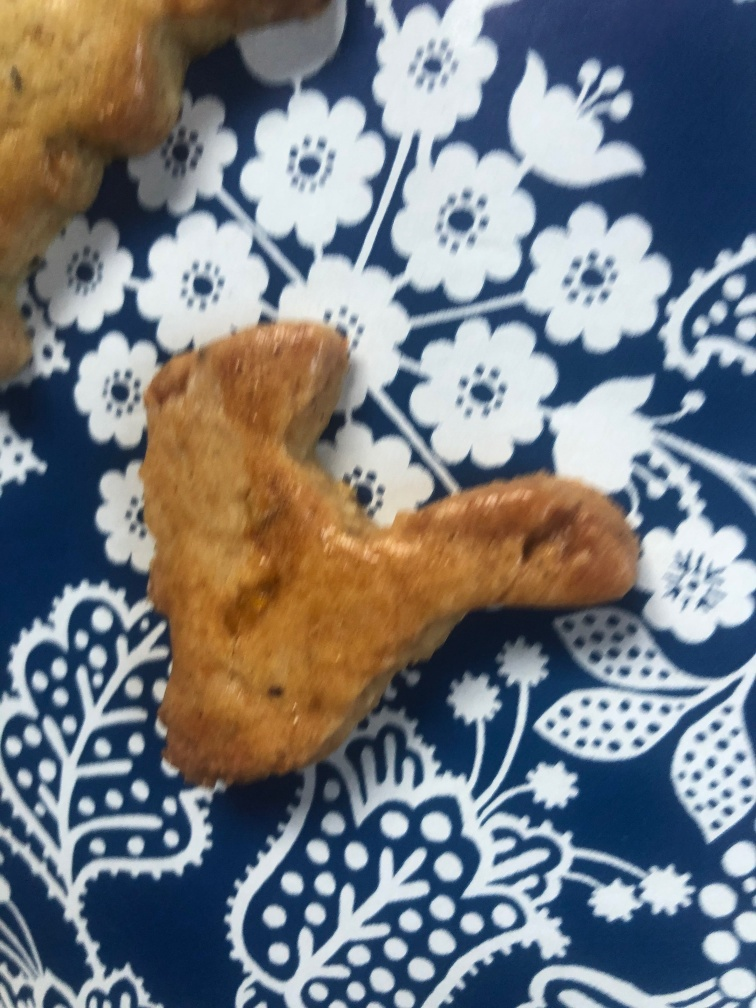squirrel: (130, 307, 641, 791)
